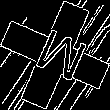M_SW: (23, 22, 87, 88)
